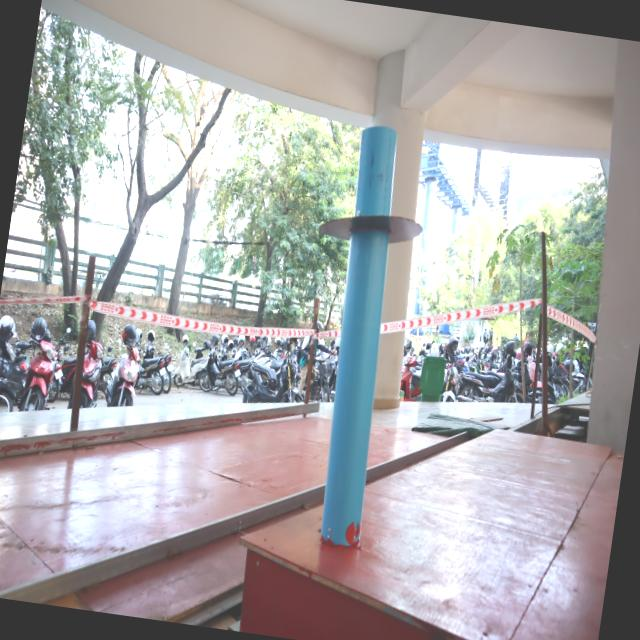pole: (300, 106, 434, 335)
